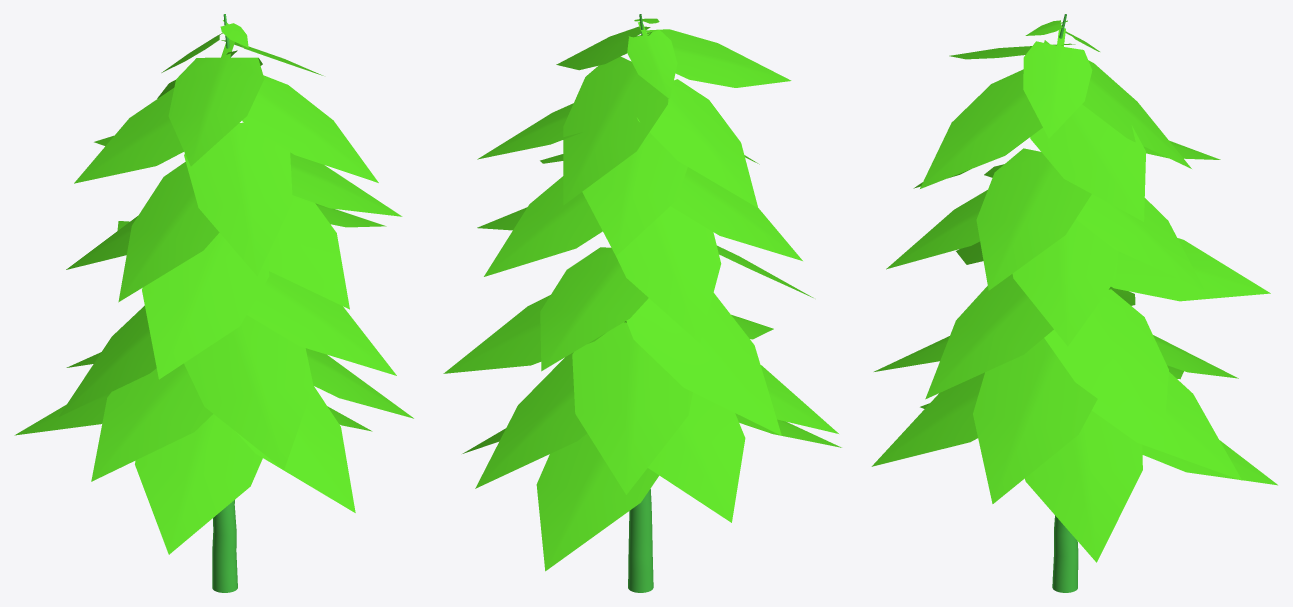
The model's file is Plant.fbx.
The picture shows the model from 3 angles, left to right: view 1: azimuth 30°, elevation 25°; view 2: azimuth 150°, elevation 25°; view 3: azimuth 270°, elevation 25°; orthographic projection.
Visible parts, largest first — view 1: Cube.003; view 2: Cube.003; view 3: Cube.003.
Boxes of the visible parts, x1,y1,x2,y2 form: Cube.003: (14,14,413,592); Cube.003: (443,14,841,592); Cube.003: (871,14,1277,592).
Bounding box in the file's own units: 297 × 493 × 317.
